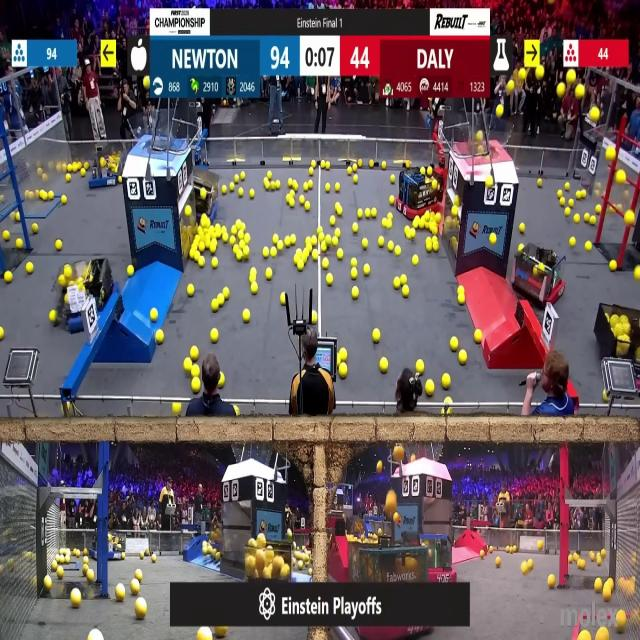ball_airborne: (386, 490, 396, 512), (605, 146, 615, 161), (590, 107, 600, 122), (626, 211, 636, 225), (575, 86, 584, 101), (566, 70, 575, 84), (557, 85, 566, 99), (618, 171, 627, 184), (536, 67, 544, 80), (486, 176, 494, 188), (496, 105, 503, 118), (507, 80, 514, 93), (520, 68, 527, 80), (477, 132, 485, 141), (378, 460, 383, 473), (475, 132, 481, 141), (394, 513, 398, 524)
ball_ground: (71, 589, 81, 608), (189, 346, 198, 362), (426, 381, 435, 396), (132, 581, 140, 597), (341, 362, 349, 378), (281, 564, 290, 578), (211, 330, 219, 344), (474, 331, 481, 344), (450, 337, 457, 350), (4, 273, 12, 284), (352, 286, 359, 298), (401, 285, 408, 297), (595, 580, 602, 592), (187, 284, 194, 296), (393, 278, 400, 290), (150, 309, 156, 322), (211, 240, 217, 253), (458, 293, 465, 304), (27, 264, 34, 275), (338, 248, 344, 260), (610, 261, 616, 273), (322, 256, 328, 268), (352, 269, 358, 280), (252, 283, 258, 294), (520, 222, 526, 233), (267, 269, 273, 280), (57, 240, 63, 251), (281, 292, 286, 305), (265, 248, 271, 258), (271, 247, 277, 257), (569, 238, 575, 248), (15, 239, 21, 249), (32, 222, 38, 232), (337, 206, 343, 216), (47, 190, 53, 199), (362, 239, 367, 249), (353, 222, 358, 232), (336, 182, 341, 192), (66, 174, 72, 182), (296, 264, 302, 272), (351, 258, 357, 266), (238, 187, 244, 195), (329, 216, 334, 224), (250, 188, 254, 198), (496, 557, 500, 567), (289, 200, 294, 208), (353, 175, 357, 184), (306, 203, 310, 212), (230, 187, 234, 196), (396, 246, 400, 255)
goal: (460, 117, 516, 159), (129, 118, 186, 152)
robot_blue: (53, 258, 121, 331), (90, 524, 130, 562), (88, 144, 120, 188)
robot_red: (349, 539, 439, 640), (592, 294, 640, 390), (514, 246, 563, 308), (397, 166, 444, 217)
